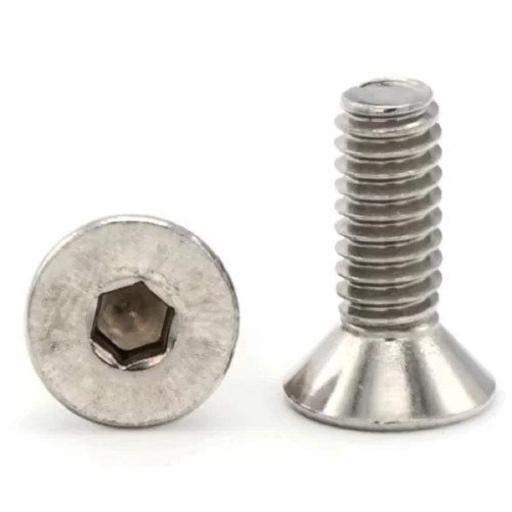Hex-Allen: (26, 216, 240, 431)
